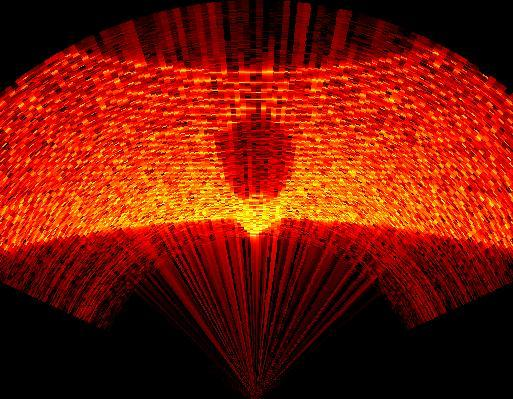box_crate: (213, 108, 301, 206)
